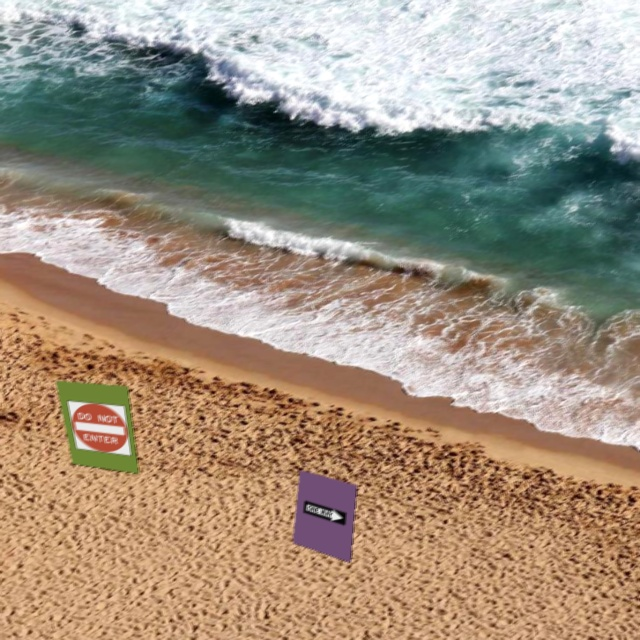DO_NOT_ENTER: (64, 391, 138, 465)
ONE_WAY_ right: (303, 501, 348, 526)
